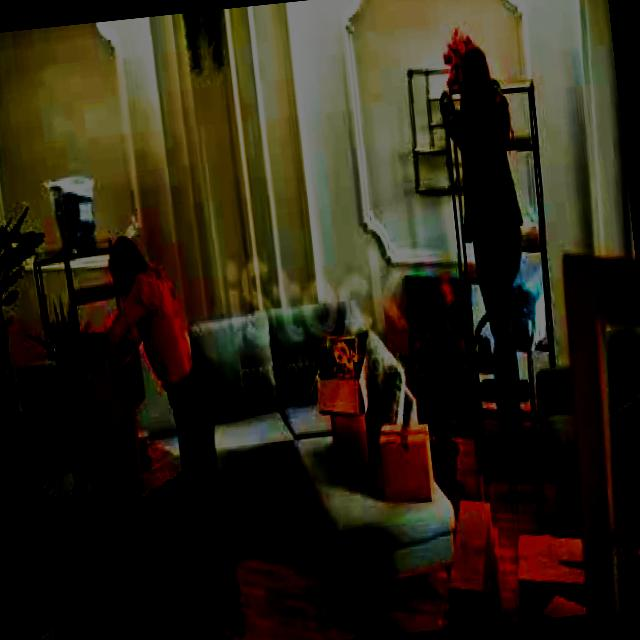Box: (83, 483, 205, 640), (62, 330, 144, 427), (446, 495, 506, 618), (518, 526, 588, 599), (377, 421, 438, 496), (80, 420, 144, 490)
